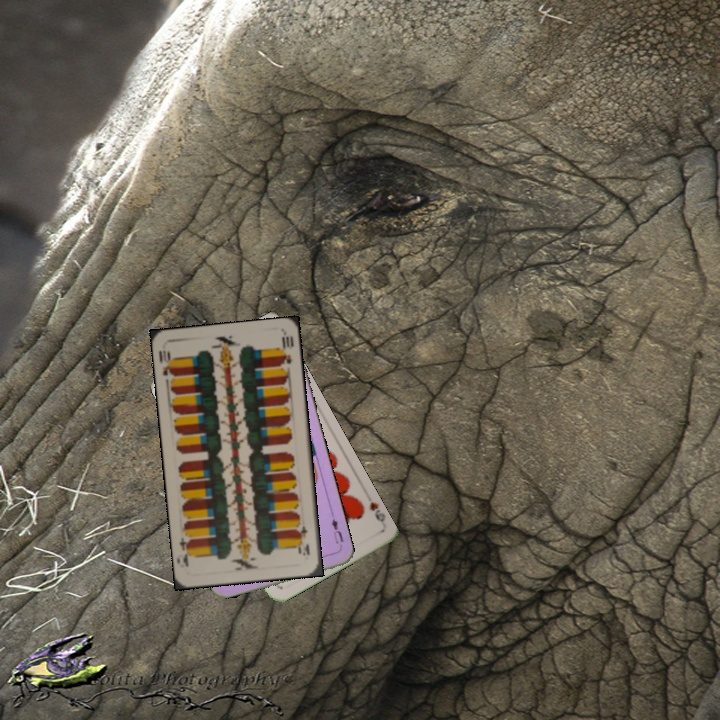E10: (155, 346, 178, 384), (294, 522, 312, 558)
EU: (327, 515, 346, 552)
H9: (364, 498, 387, 525)
